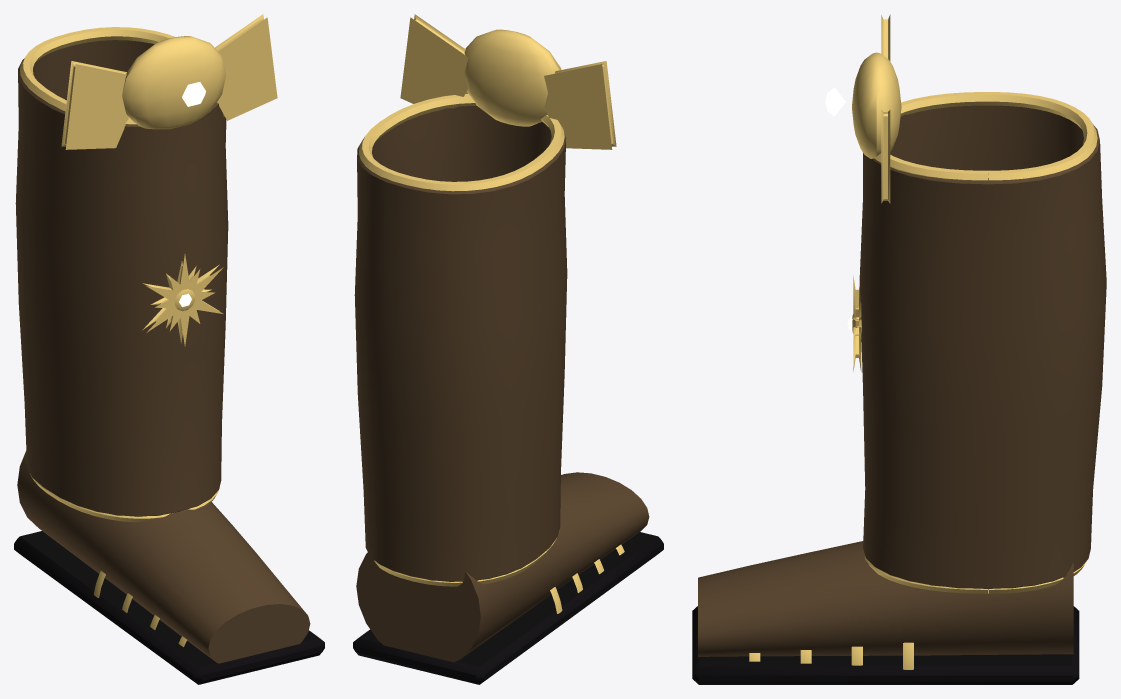
File: asc_hierophant_boots.glb
3 views of the same model, side by side, from view 1: azimuth 30°, elevation 25°; view 2: azimuth 150°, elevation 25°; view 3: azimuth 270°, elevation 25° (orthographic). The views are drawn at different scales.
Parts seen in each view (by area): view 1: asc_hierophant_boots, AT_foot_L; view 2: asc_hierophant_boots, AT_foot_L; view 3: asc_hierophant_boots, AT_foot_L.
Boxes of the visible parts, x1,y1,x2,y2 form: asc_hierophant_boots: (15, 14, 277, 522); AT_foot_L: (14, 451, 324, 684); asc_hierophant_boots: (354, 14, 616, 586); AT_foot_L: (353, 472, 663, 684); asc_hierophant_boots: (825, 14, 1106, 593); AT_foot_L: (692, 541, 1079, 684).
Size of the model in its own units: 0.2244 by 0.5768 by 0.3641.
